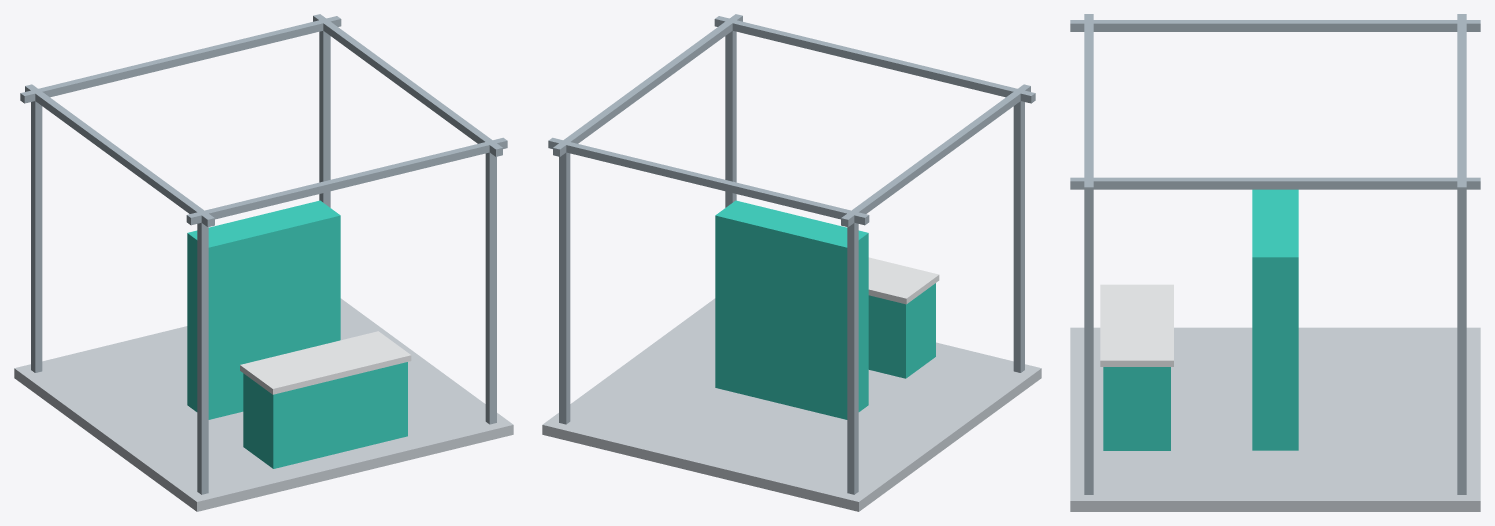
3 renders of one model, left to right at view 1: azimuth 30°, elevation 25°; view 2: azimuth 150°, elevation 25°; view 3: azimuth 270°, elevation 25°, orthographic. The views are drawn at different scales.
Parts seen in each view (by area): view 1: Exhibition Booth Concept; view 2: Exhibition Booth Concept; view 3: Exhibition Booth Concept.
Part boxes in pixels (x1=…): Exhibition Booth Concept: x1=14, y1=14, x2=513, y2=511; Exhibition Booth Concept: x1=542, y1=14, x2=1041, y2=511; Exhibition Booth Concept: x1=1070, y1=14, x2=1480, y2=511.
Bounding box in the file's own units: 4 × 3.49 × 4.
